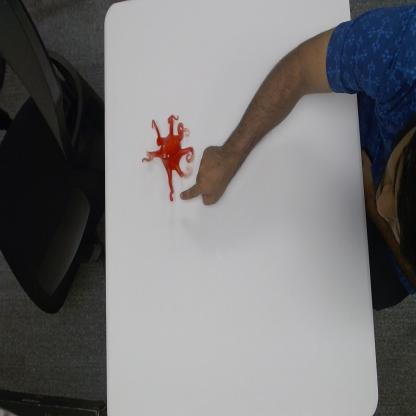Arm: (232, 17, 358, 178)
Hand: (179, 143, 233, 208)
Octopus: (141, 112, 195, 203)
